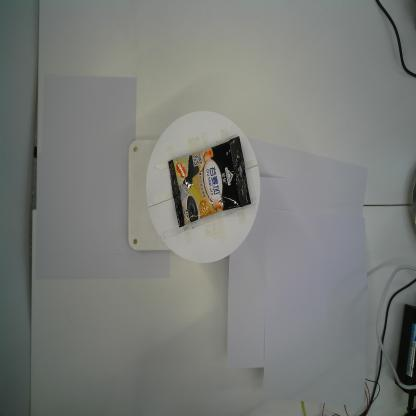Instant Drink: (168, 136, 251, 228)
